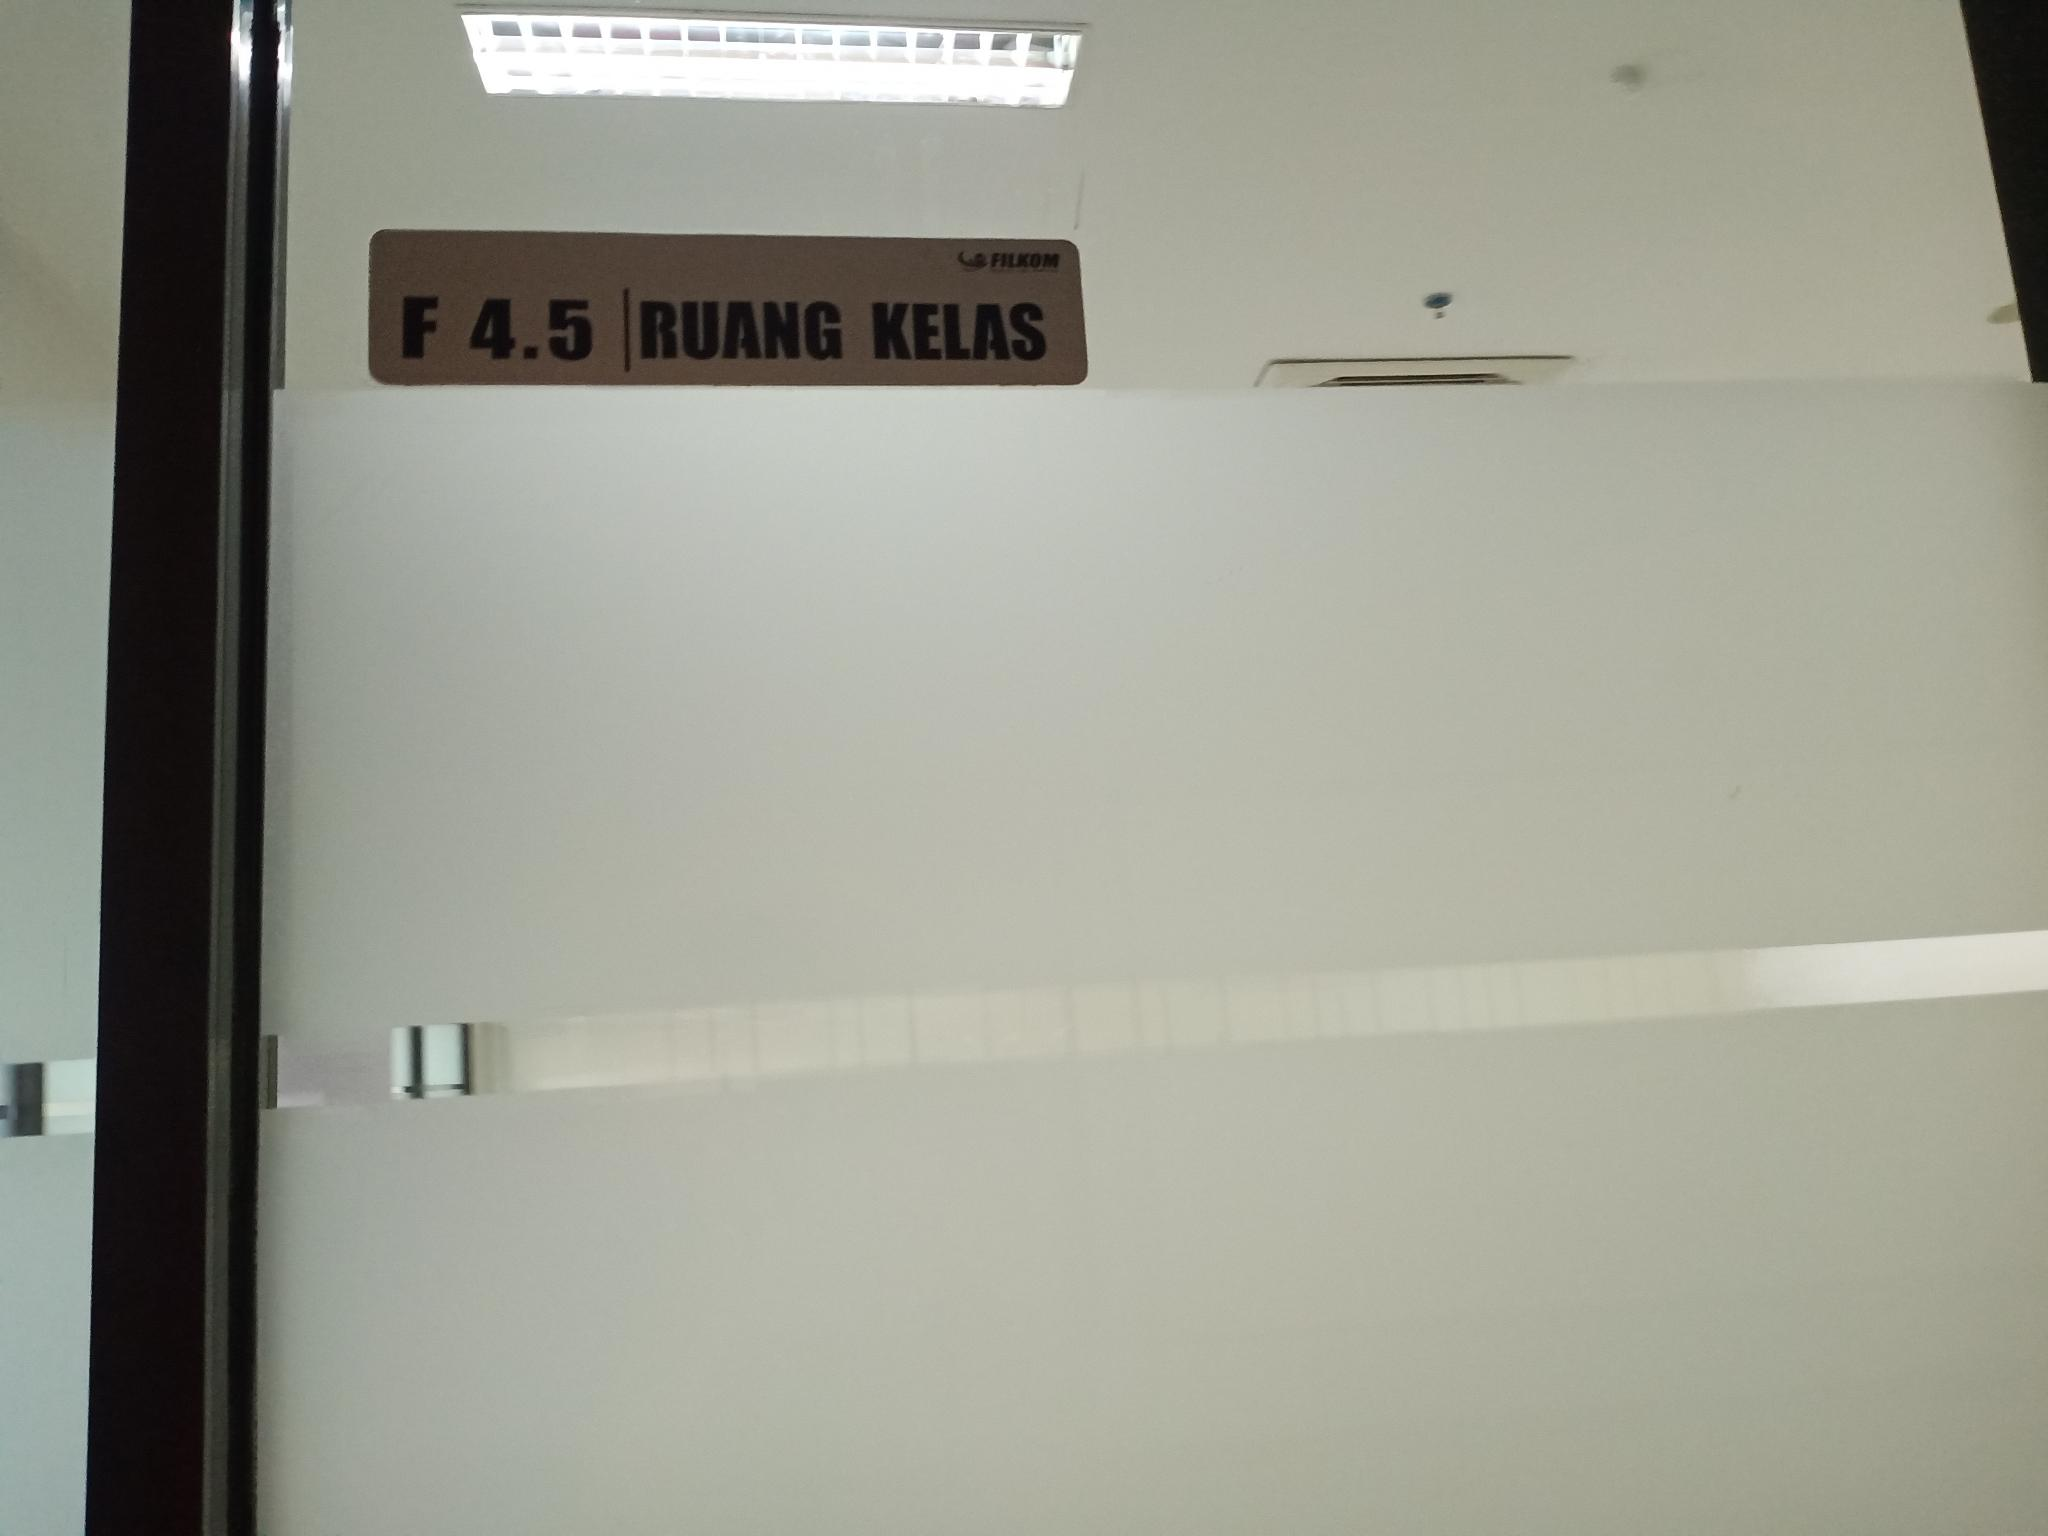plate: (369, 229, 1089, 389)
